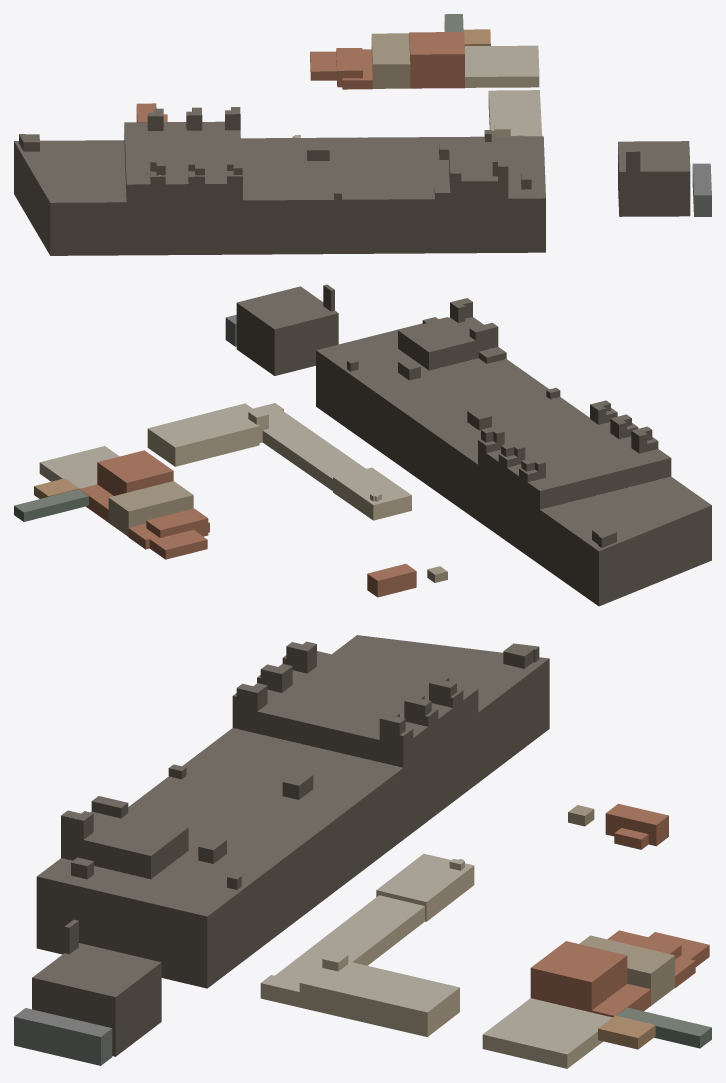
File: tile--4_-13.glb
3 views of the same model, one above another, from view 1: azimuth 30°, elevation 25°; view 2: azimuth 150°, elevation 25°; view 3: azimuth 270°, elevation 25° (orthographic). The views are drawn at different scales.
Visible parts, largest first — view 1: wall, roof; view 2: wall, roof; view 3: wall, roof.
Part boxes in pixels (<box>): wall: <box>14,23,711,255</box>; roof: <box>14,14,711,202</box>; wall: <box>14,285,711,606</box>; roof: <box>14,284,711,580</box>; wall: <box>14,644,711,1068</box>; roof: <box>14,635,711,1054</box>.
Bounding box in the file's own units: 268 × 39.67 × 215.
